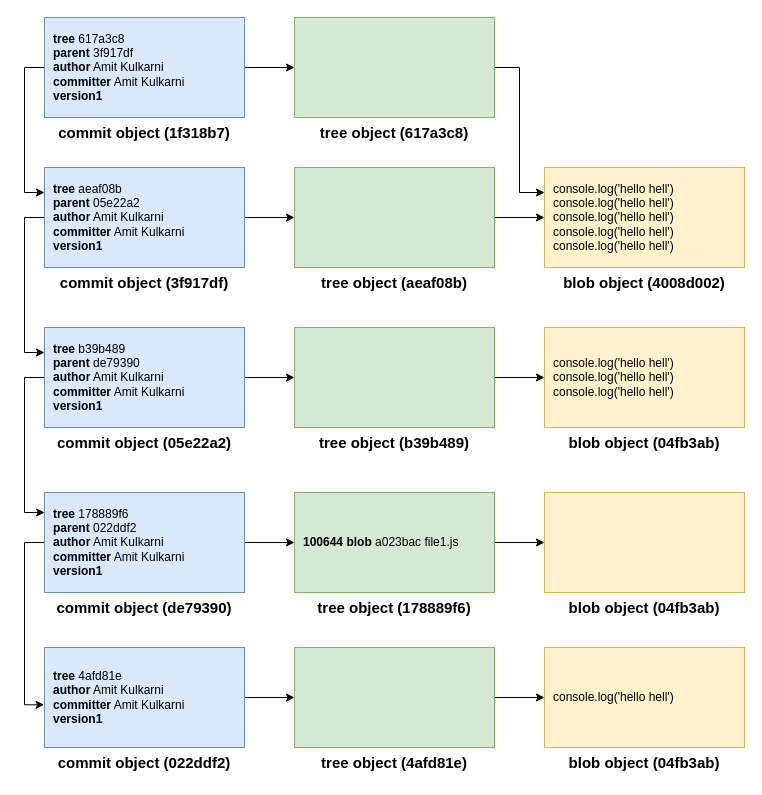
This 762x795 diagram has some shape labels left out. The shapes that lost their labels are listed below. From the top down, each one's centre as x and y in pixels, then its label:
At [394,67]: "100644 blob 4008d002 file1.js 100644 blob 4008d002 file2.js".
At [394,217]: "100644 blob 4008d002 file1.js".
At [394,377]: "100644 blob 8c3f6a95a file1.js".
At [644,542]: "console.log('hello hell') console.log('hello hell')".
At [394,697]: "100644 blob 04fb3ab file1.js".
